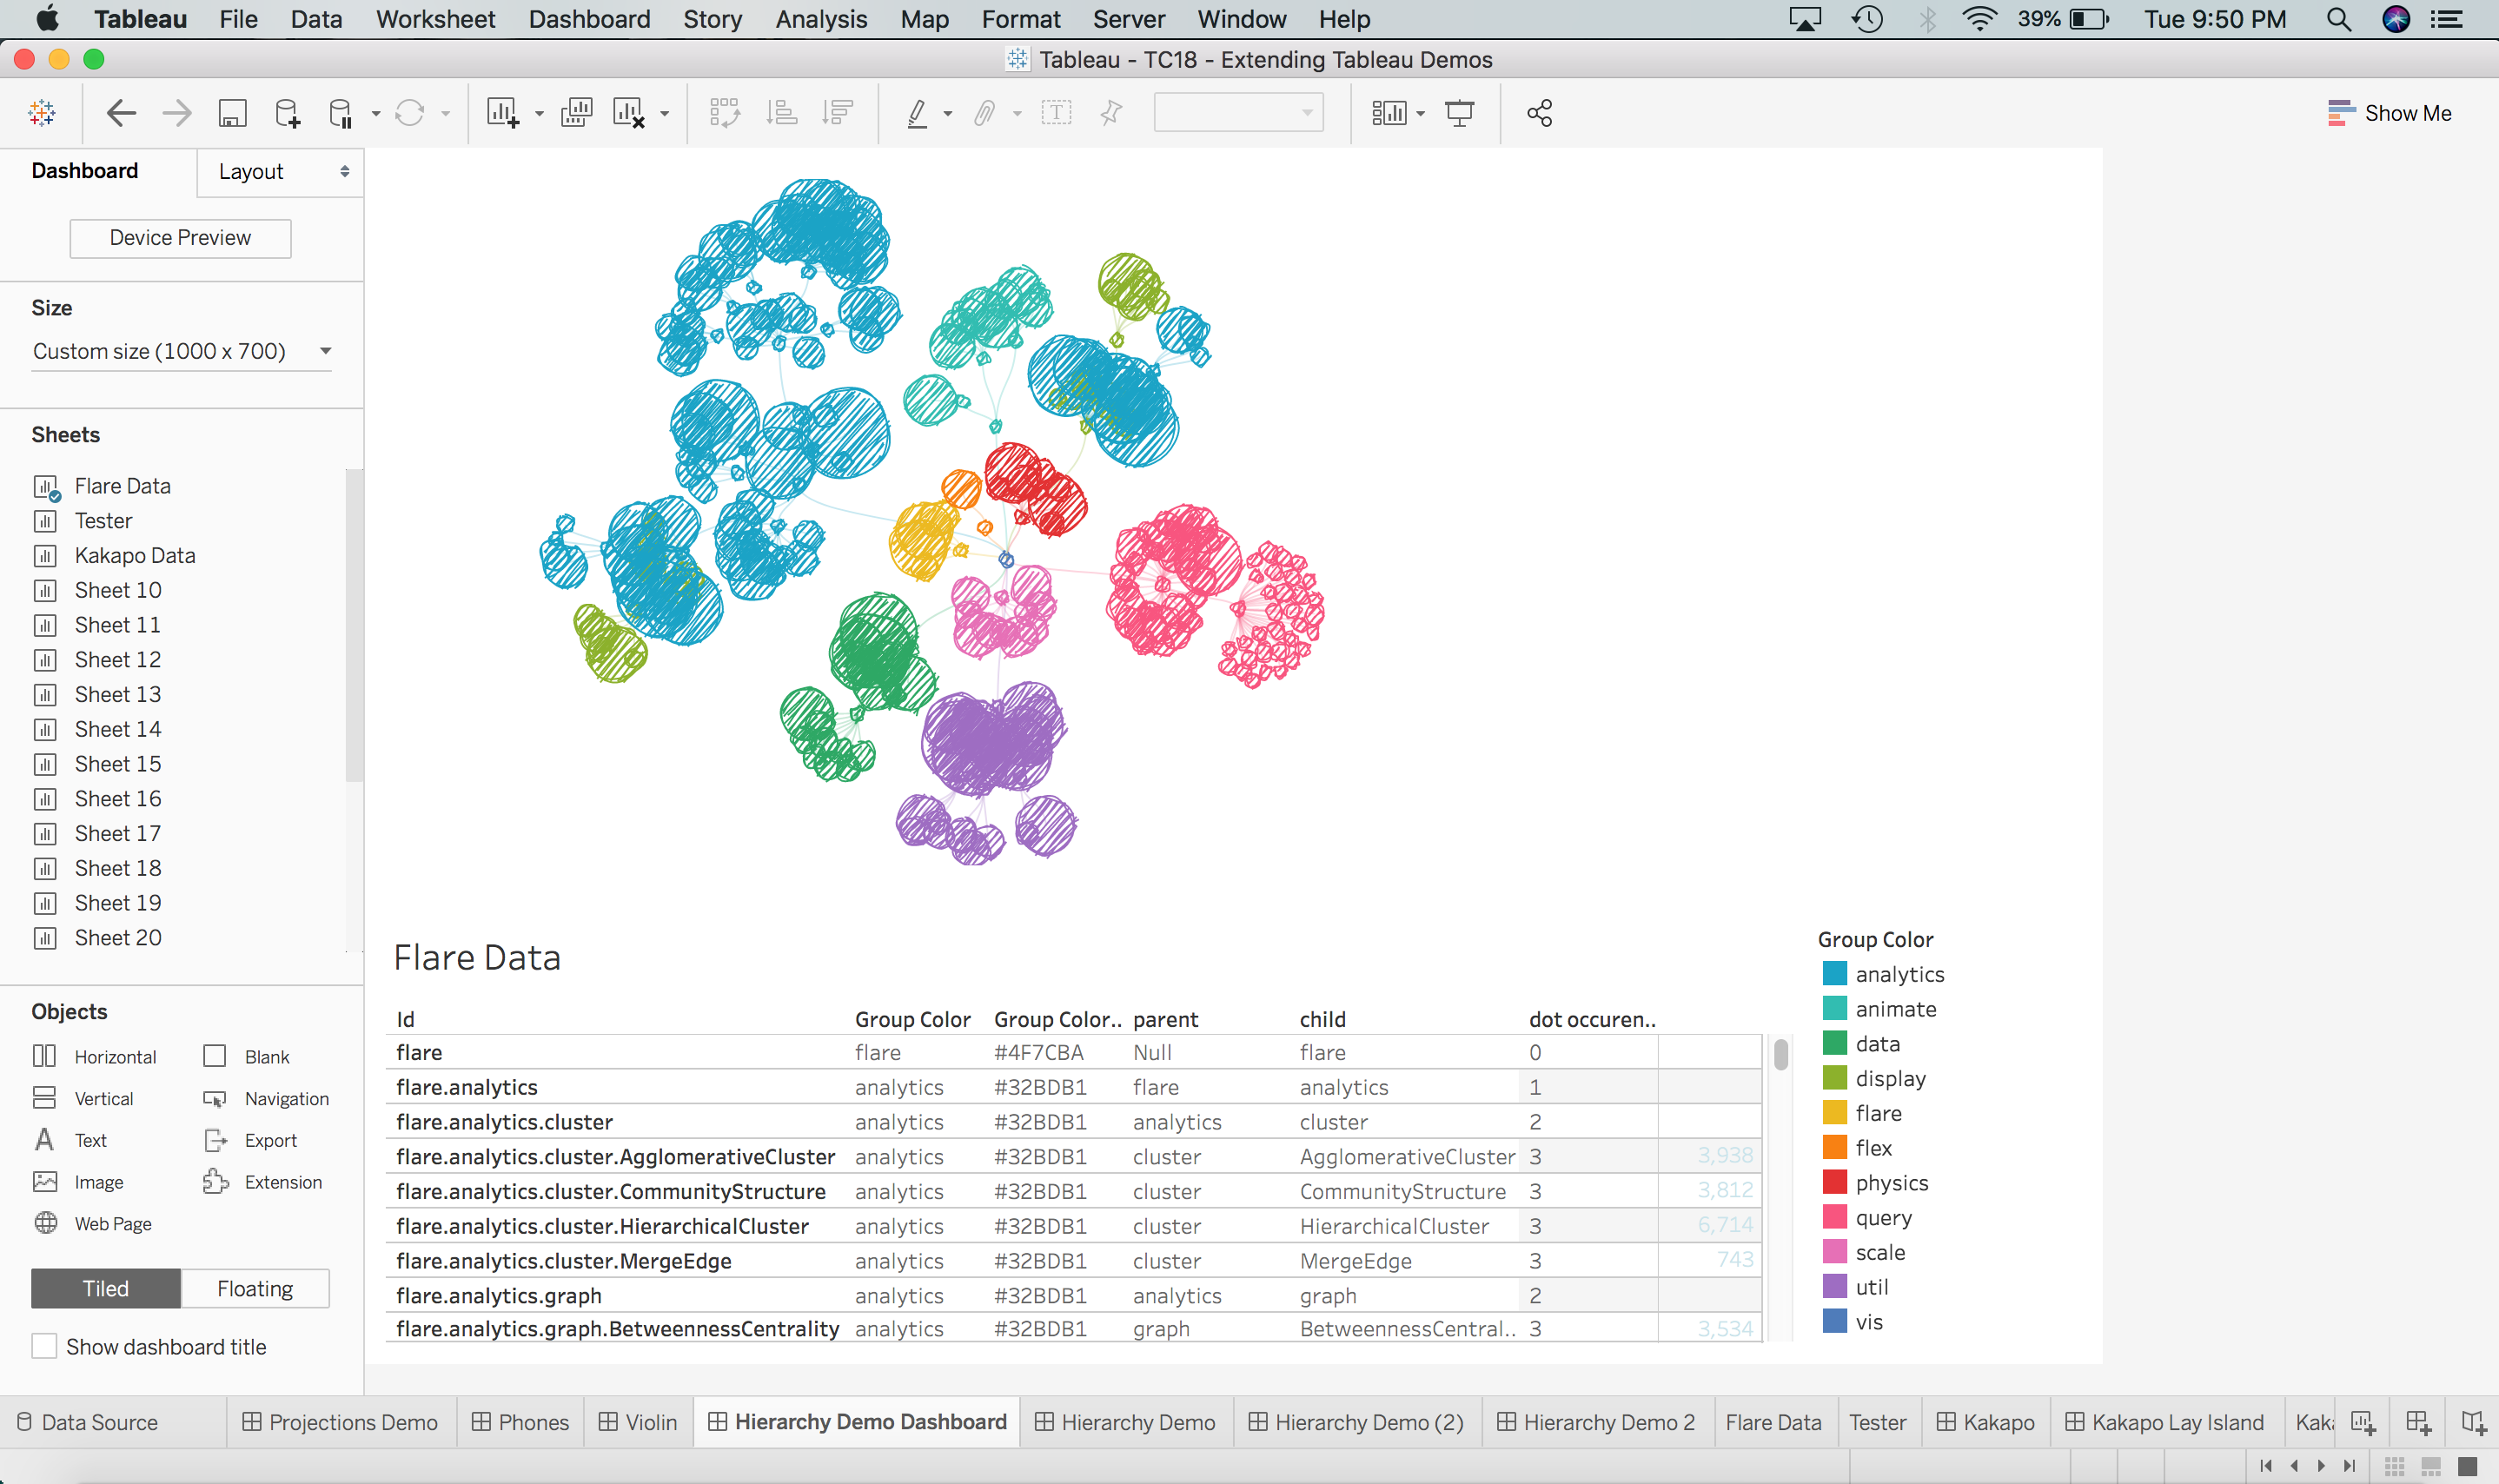

What the dashboard file says about the page in this screenshot:
{"tool":"tableau","page":{"name":"Example Dashboard","canvas":[650,860],"ordinal":0},"visuals":[{"type":"worksheet","title":"Flare Data","mark":"Automatic","rows":["id","Calculation_120049106817544195","Calculation_120049106817761284"],"box":[8,9.6,634,222.8]},{"type":"dashboard-object","param":"[com.datablick.extension.semiotic.hierarchy].[0.1.0].[http://localhost:3000/inde","box":[8,232.4,634,488.7]},{"type":"text","box":[8,721.1,634,129.4]}]}

Visuals, with their boxes on the page's 650x860 design canvas (x1, y1, x2, y2). These are canvas units, not pixel positions in the 2499x1484 screenshot, which may show the page scaled, cropped or inside an application window:
"Flare Data" worksheet: BBox(8, 10, 642, 232)
dashboard-object: BBox(8, 232, 642, 721)
text: BBox(8, 721, 642, 850)
